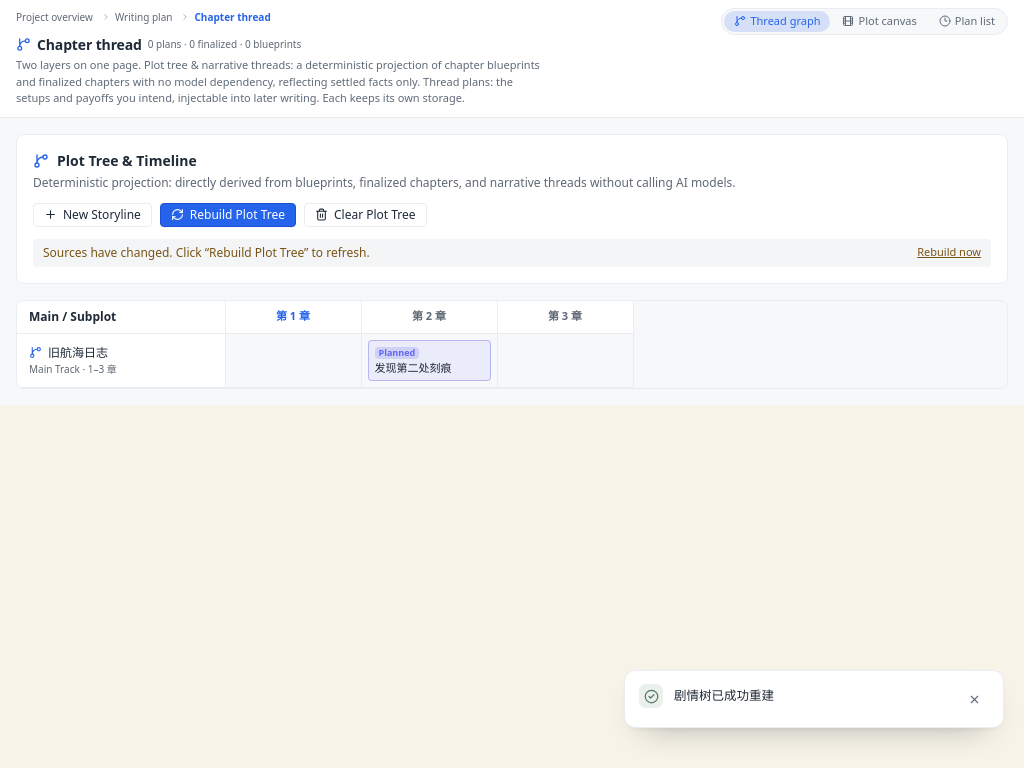
Test: NarrativeThreadEditor › explains a rejected snapshot save in en-US without replacing the snapshot
Step 1. Click the button "Rebuild Plot Tree" → (228, 214), box top-left (160, 202), bottom-right (296, 226)
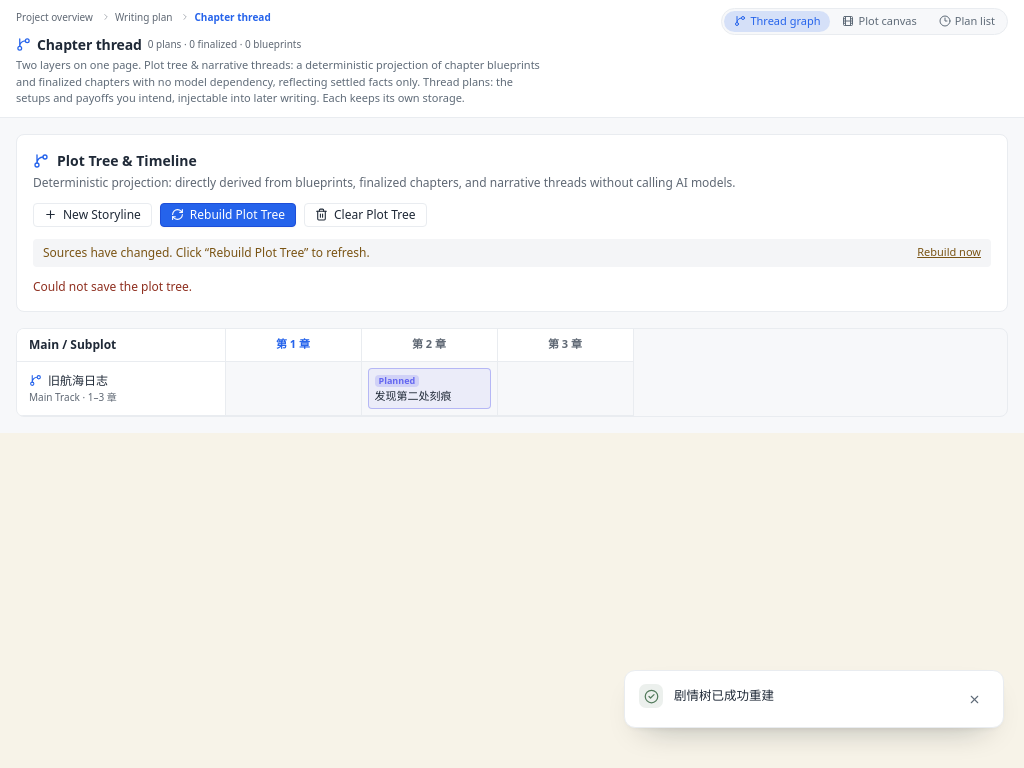
Expected: the text "旧航海日志" is shown, top-left (48, 373), bottom-right (108, 389)
Expected: the text "Could not save the plot tree." is shown, top-left (33, 278), bottom-right (192, 294)
